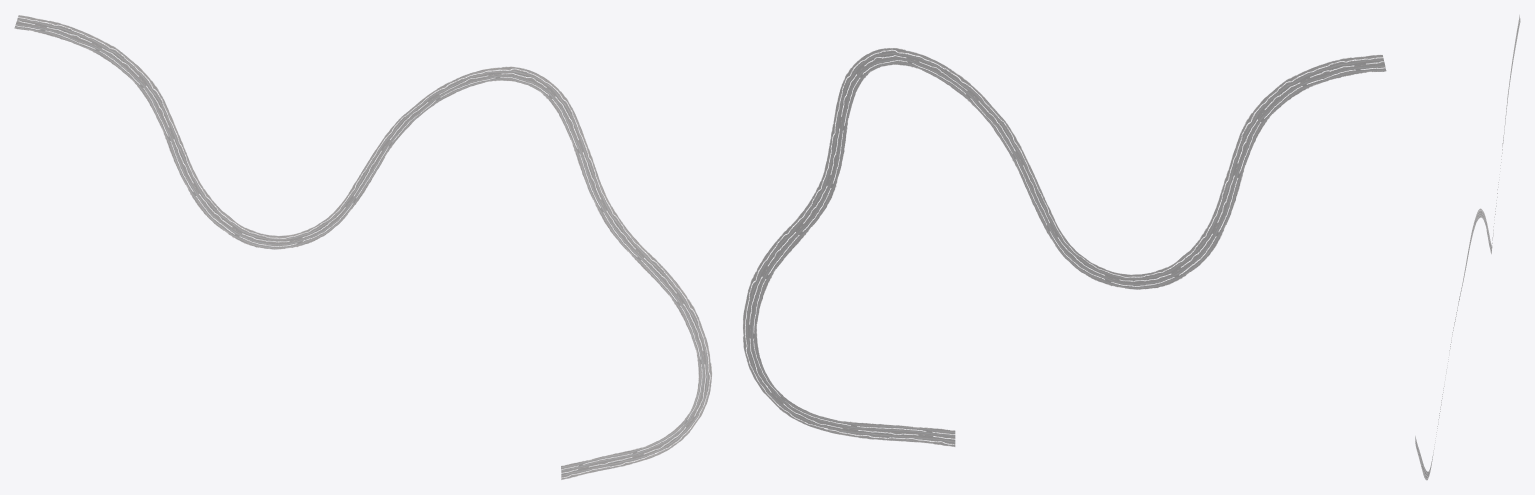
The model's file is put_staze.glb.
3 renders of one model, left to right at view 1: azimuth 30°, elevation 25°; view 2: azimuth 150°, elevation 25°; view 3: azimuth 270°, elevation 25°, orthographic. The views are drawn at different scales.
Parts seen in each view (by area): view 1: Background_Tree_Atlas.015_Dirt_Road_Trails_0; view 2: Background_Tree_Atlas.015_Dirt_Road_Trails_0; view 3: Background_Tree_Atlas.015_Dirt_Road_Trails_0.
Boxes of the visible parts, x1=… form: Background_Tree_Atlas.015_Dirt_Road_Trails_0: x1=14, y1=15, x2=711, y2=479; Background_Tree_Atlas.015_Dirt_Road_Trails_0: x1=743, y1=48, x2=1386, y2=446; Background_Tree_Atlas.015_Dirt_Road_Trails_0: x1=1415, y1=15, x2=1520, y2=479.
Bounding box in the file's own units: 144 × 114 × 35.8.
Materials: 1 (1 with a texture image).
